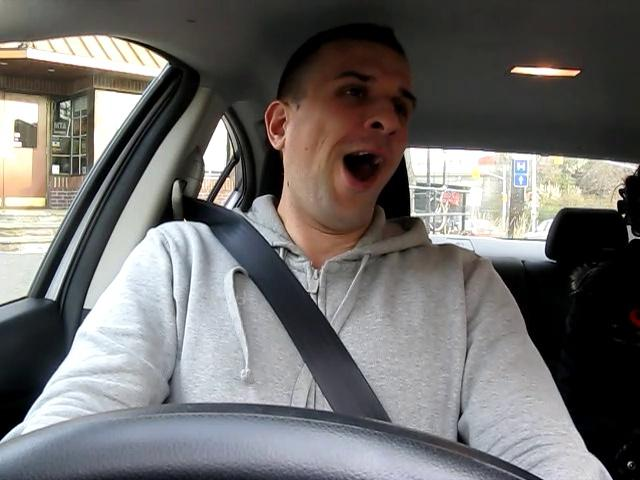open_eyeL: (327, 77, 381, 108)
open_eyeR: (385, 89, 422, 131)
yawn: (316, 140, 400, 192)
